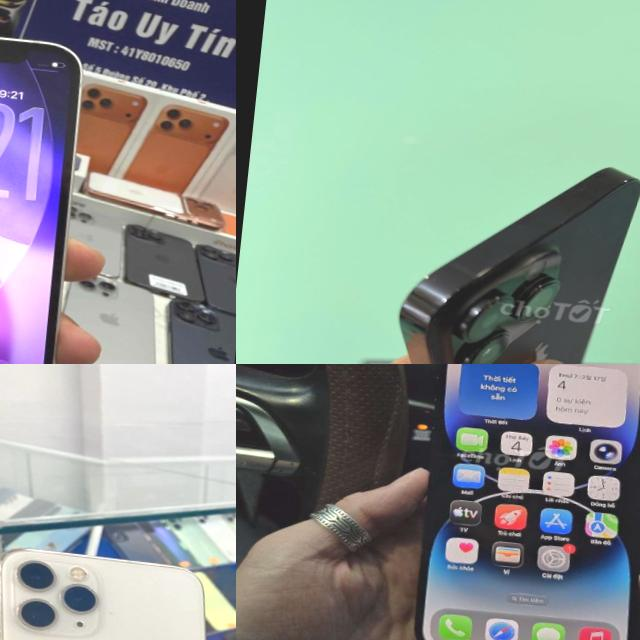gen_11: (0, 549, 205, 640)
gen_12_13: (0, 19, 98, 364)
gen_14: (399, 364, 640, 640), (366, 145, 640, 364)
